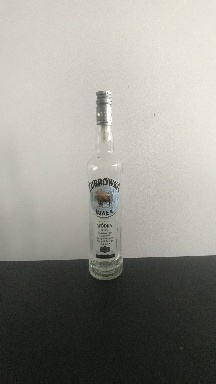butelka: (86, 87, 124, 282)
